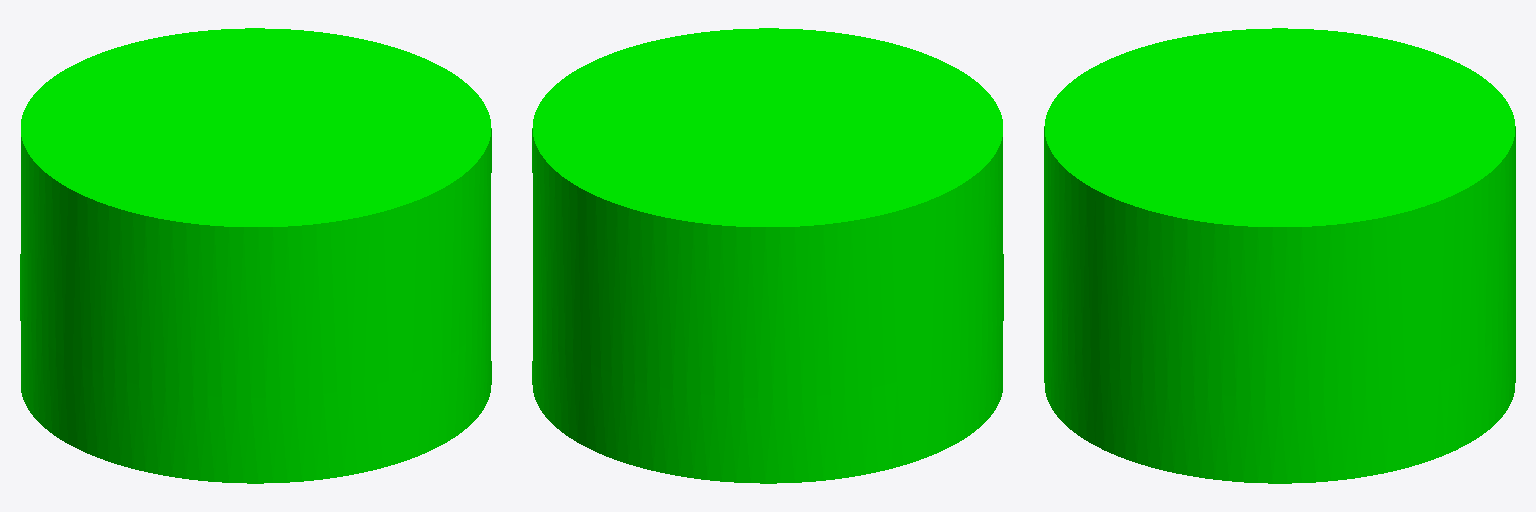
The robot description file, URDF, robot "Cylinder_v6_100_60":
<robot name="Cylinder_v6_100_60">
	<link name="object">
		<visual>
			<origin xyz="-1.3181895102784675e-17 0.0 -0.6000000000000002" rpy="0.0 0.0 0.0" />
			<geometry>
				<mesh filename="Cylinder_v6_100_60/Cylinder_v6_100_60.obj" scale="0.02 0.02 0.02" />
			</geometry>
			<material name="texture">
				<color rgba="0.0 1.0 0.0 1.0" />
			</material>
		</visual>
		<collision>
			<origin xyz="-1.3181895102784675e-17 0.0 -0.6000000000000002" rpy="0.0 0.0 0.0" />
			<geometry>
				<mesh filename="Cylinder_v6_100_60/Cylinder_v6_100_60_vhacd.obj" scale="0.02 0.02 0.02" />
			</geometry>
		</collision>
		<inertial>
			<mass value="0.020" />
			<inertia ixx="1.0" ixy="0.0" ixz="0.0" iyy="1.0" iyz="0.0" izz="1.0" />
		</inertial>
	</link>
</robot>

--- Facts derived from the render (not from the file) ---
3 views of the same robot in one strip: view 1: azimuth 30°, elevation 25°; view 2: azimuth 150°, elevation 25°; view 3: azimuth 270°, elevation 25° (orthographic).
Robot: Cylinder_v6_100_60 — 1 links, 0 joints (none); root link object; default pose: all joints at 0.
Visible links, largest first — view 1: object; view 2: object; view 3: object.
Boxes of the visible links, x1=… form: object: x1=20, y1=28, x2=491, y2=483; object: x1=532, y1=28, x2=1003, y2=483; object: x1=1044, y1=28, x2=1515, y2=483.
Bounding box of the posed robot: 2 × 2 × 1.2 m (x, y, z).
1 mesh visuals loaded from 1 distinct referenced files (1 OBJ).